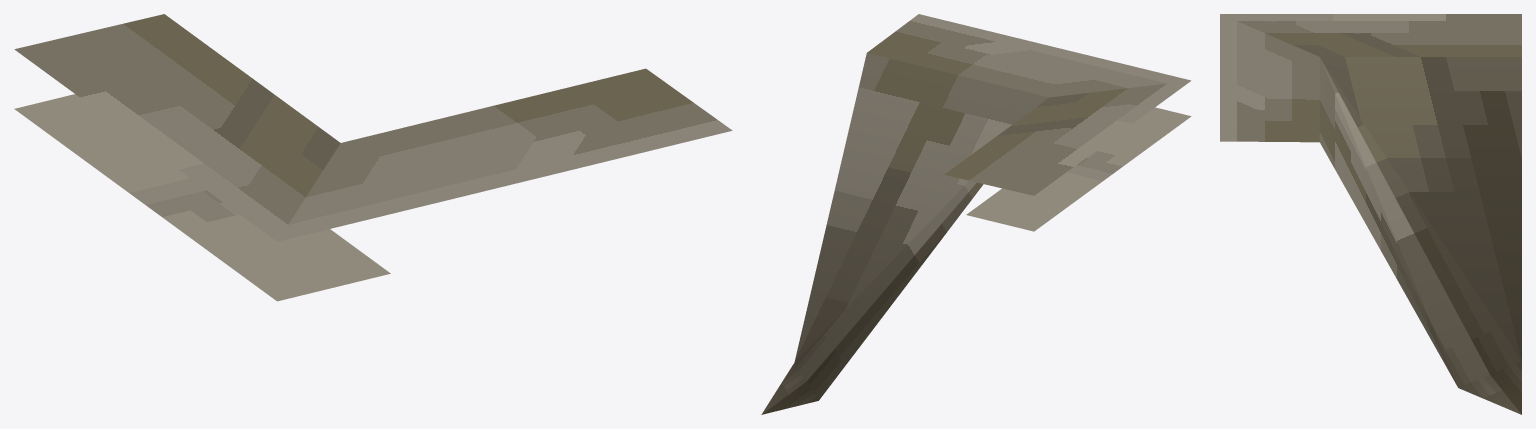
The picture shows the model from 3 angles, left to right: view 1: azimuth 30°, elevation 25°; view 2: azimuth 150°, elevation 25°; view 3: azimuth 270°, elevation 25°; orthographic projection. The views are drawn at different scales.
Size of the model in its own units: 1 by 1 by 1.
2 materials, 2 textured.
